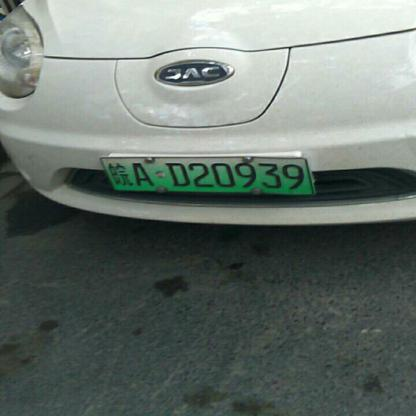lp: (100, 157, 315, 190)
